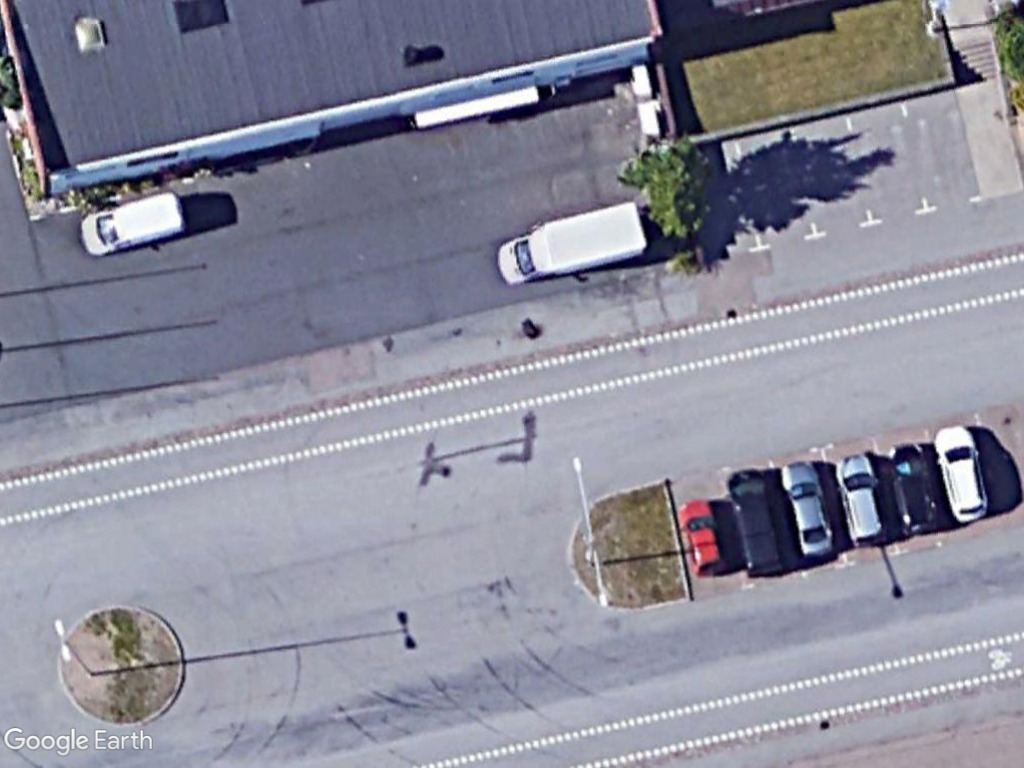car: (931, 421, 994, 527), (776, 459, 839, 560), (830, 451, 892, 551), (675, 491, 729, 581)
van: (494, 199, 653, 290), (75, 188, 193, 260), (723, 466, 794, 582)
